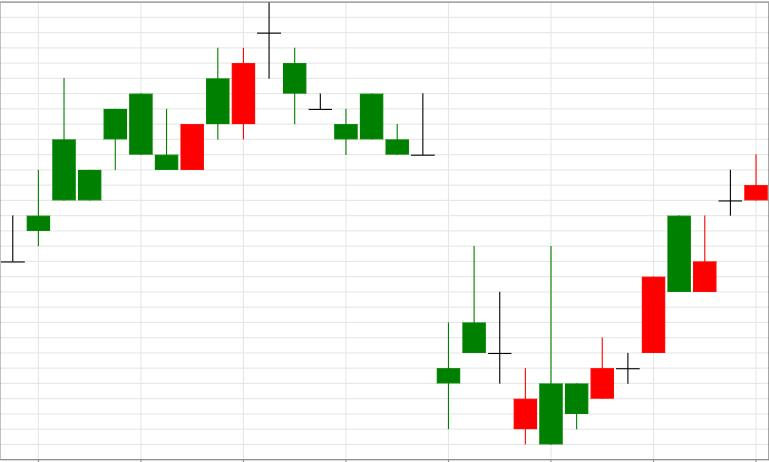evening_star_fall: (180, 2, 307, 171)
